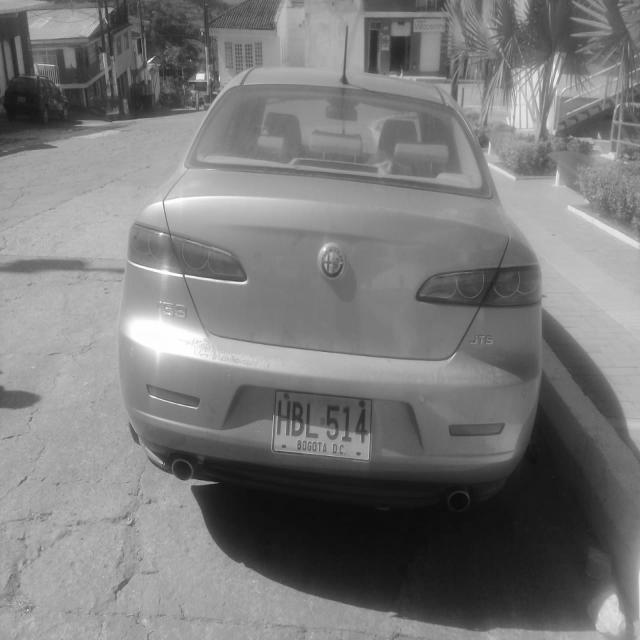plate: (269, 380, 379, 470)
